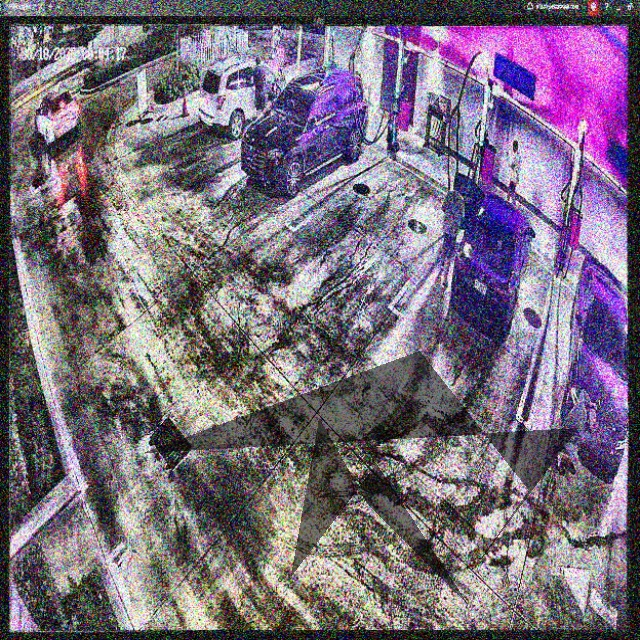Car: (241, 62, 370, 193), (452, 173, 534, 336)
